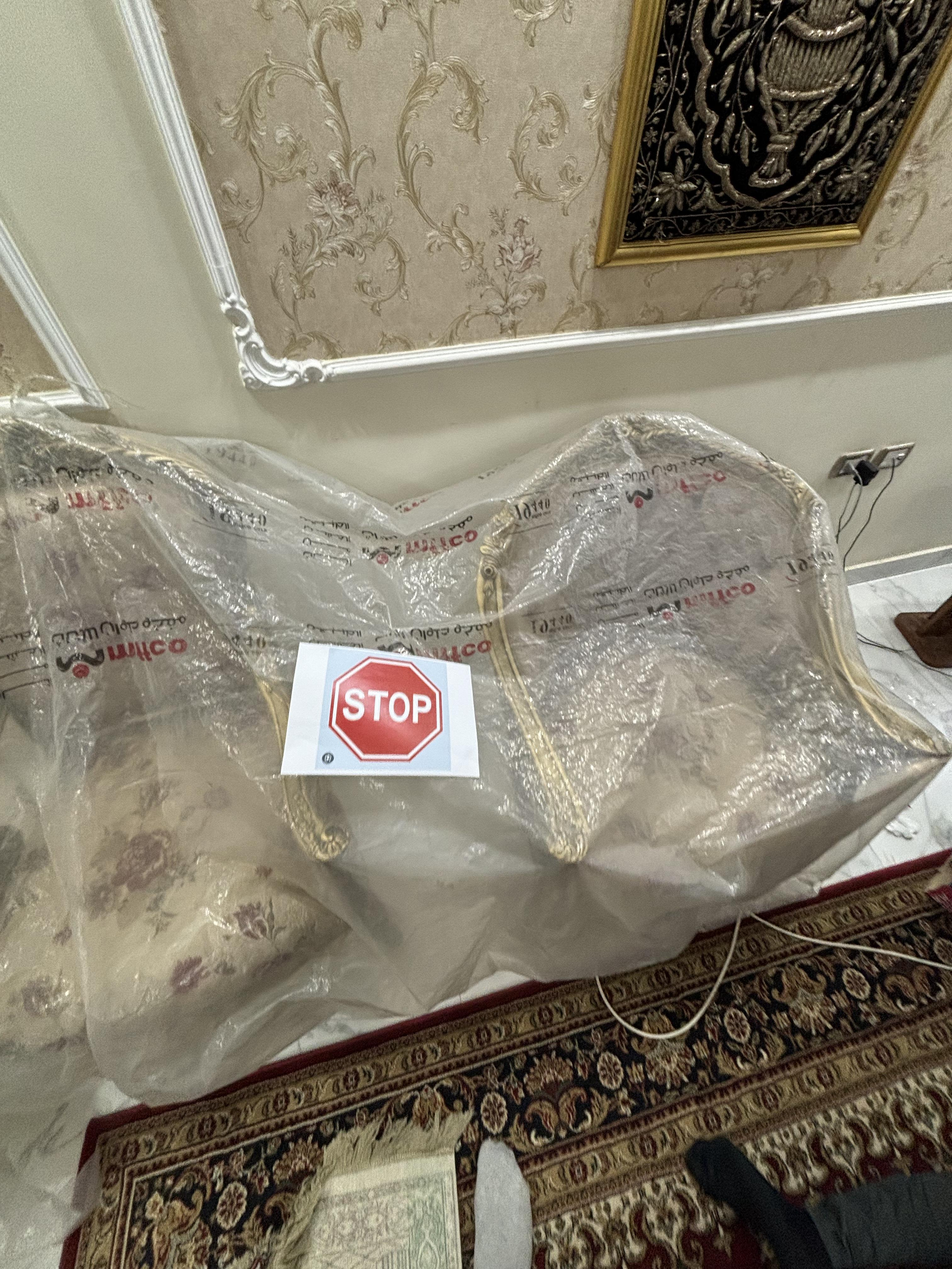Stop: (327, 653, 445, 769)
